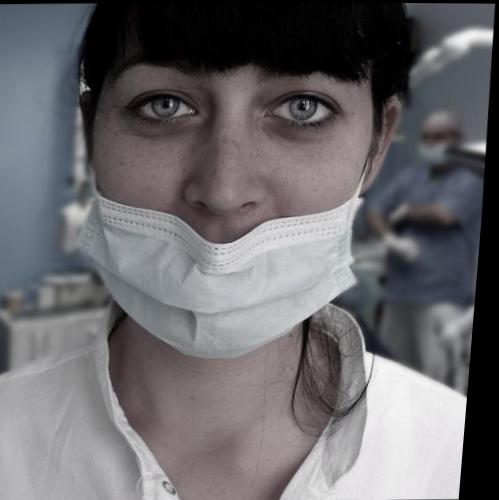WRONG: (79, 57, 391, 353)
